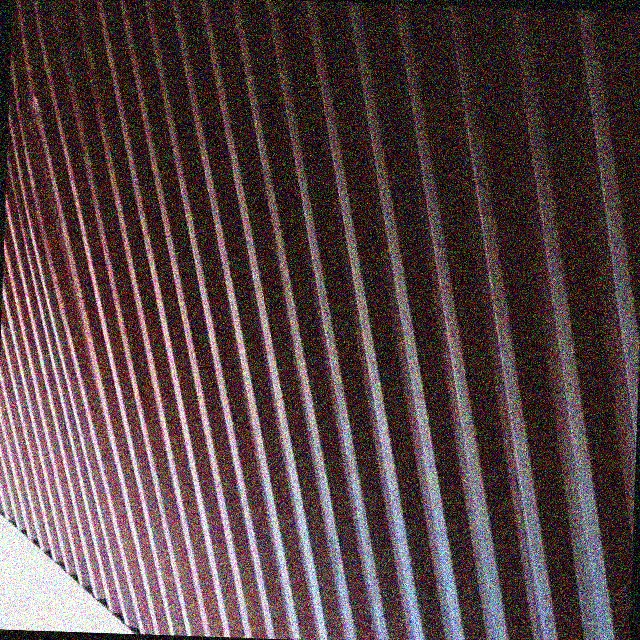Dent: (13, 56, 64, 235)
